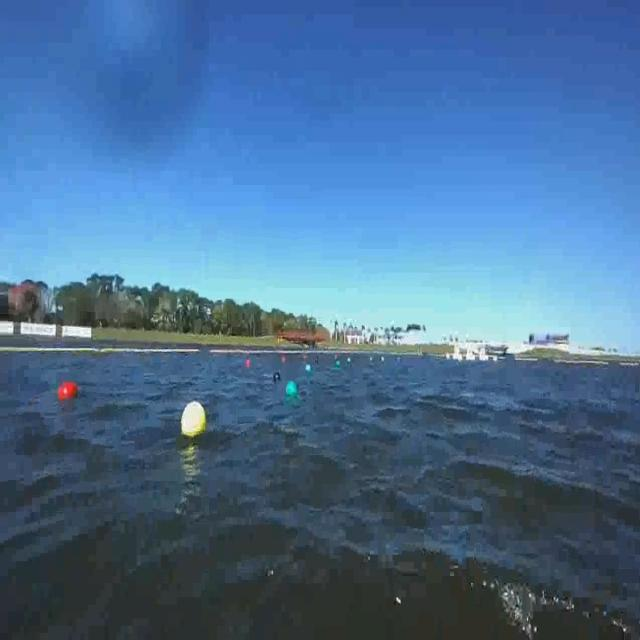black-buoy: (274, 374, 280, 384)
green-buoy: (285, 381, 297, 398)
red-buoy: (60, 380, 78, 399), (244, 359, 249, 368)
yellow-buoy: (180, 402, 206, 439)
